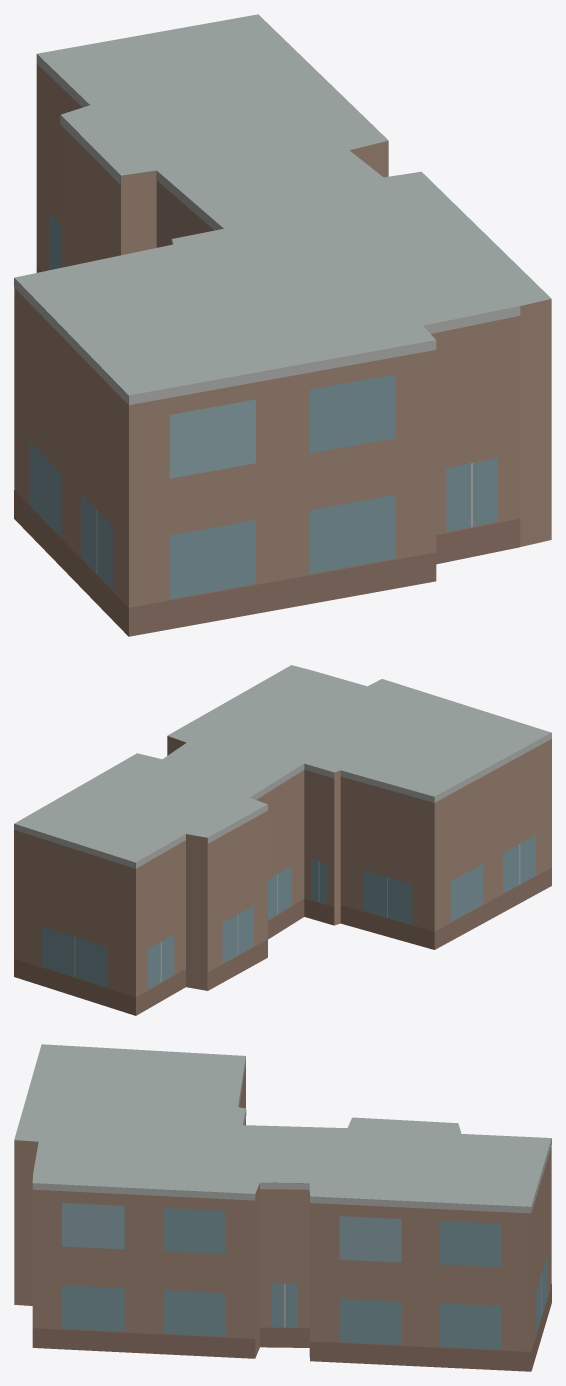
Rendered from survey-upis-32561141.glb.
3 renders of one model, top to bottom at view 1: azimuth 30°, elevation 25°; view 2: azimuth 150°, elevation 25°; view 3: azimuth 270°, elevation 25°, orthographic. The views are drawn at different scales.
Visible parts, largest first — view 1: survey-upis-32561141.tmp; view 2: survey-upis-32561141.tmp; view 3: survey-upis-32561141.tmp.
Part boxes in pixels (x1,y1,x2,y2): survey-upis-32561141.tmp: [14, 14, 551, 636]; survey-upis-32561141.tmp: [14, 665, 551, 1015]; survey-upis-32561141.tmp: [14, 1044, 551, 1371].
Size of the model in its own units: 12.93 by 6.1 by 18.06.
